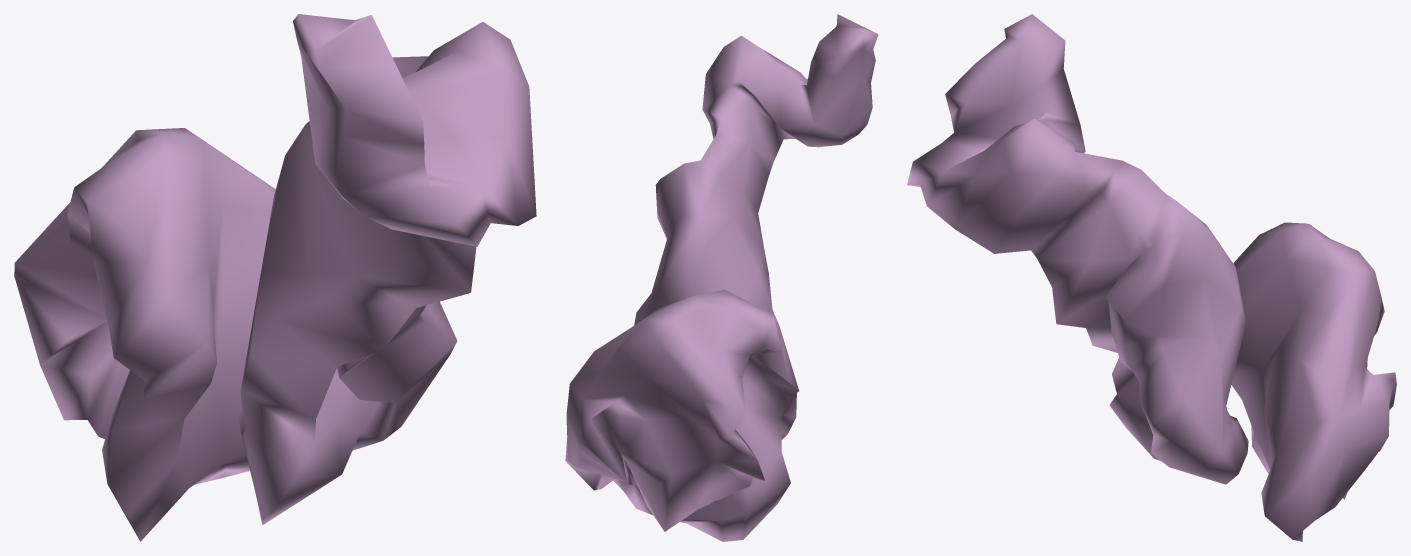
The picture shows the model from 3 angles, left to right: view 1: azimuth 30°, elevation 25°; view 2: azimuth 150°, elevation 25°; view 3: azimuth 270°, elevation 25°; orthographic projection. The views are drawn at different scales.
Visible parts, largest first — view 1: 右侧中央旁沟; view 2: 右侧中央旁沟; view 3: 右侧中央旁沟.
Part boxes in pixels (<box>): 右侧中央旁沟: <box>14,14,536,541</box>; 右侧中央旁沟: <box>565,14,878,541</box>; 右侧中央旁沟: <box>907,14,1396,541</box>.
Bounding box in the file's own units: 0.0279 × 0.0534 × 0.05.
